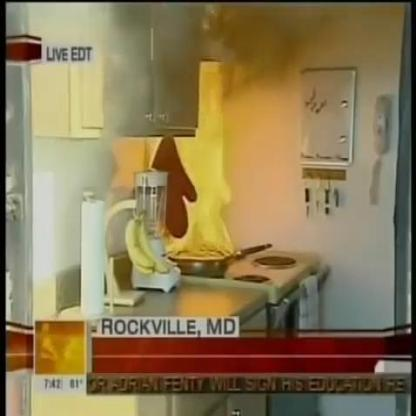fire: (168, 110, 234, 262)
